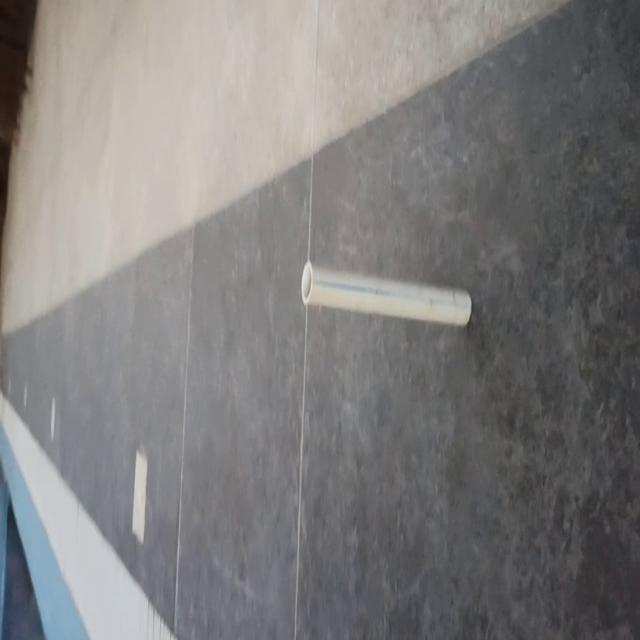Cube: (300, 259, 472, 328)
